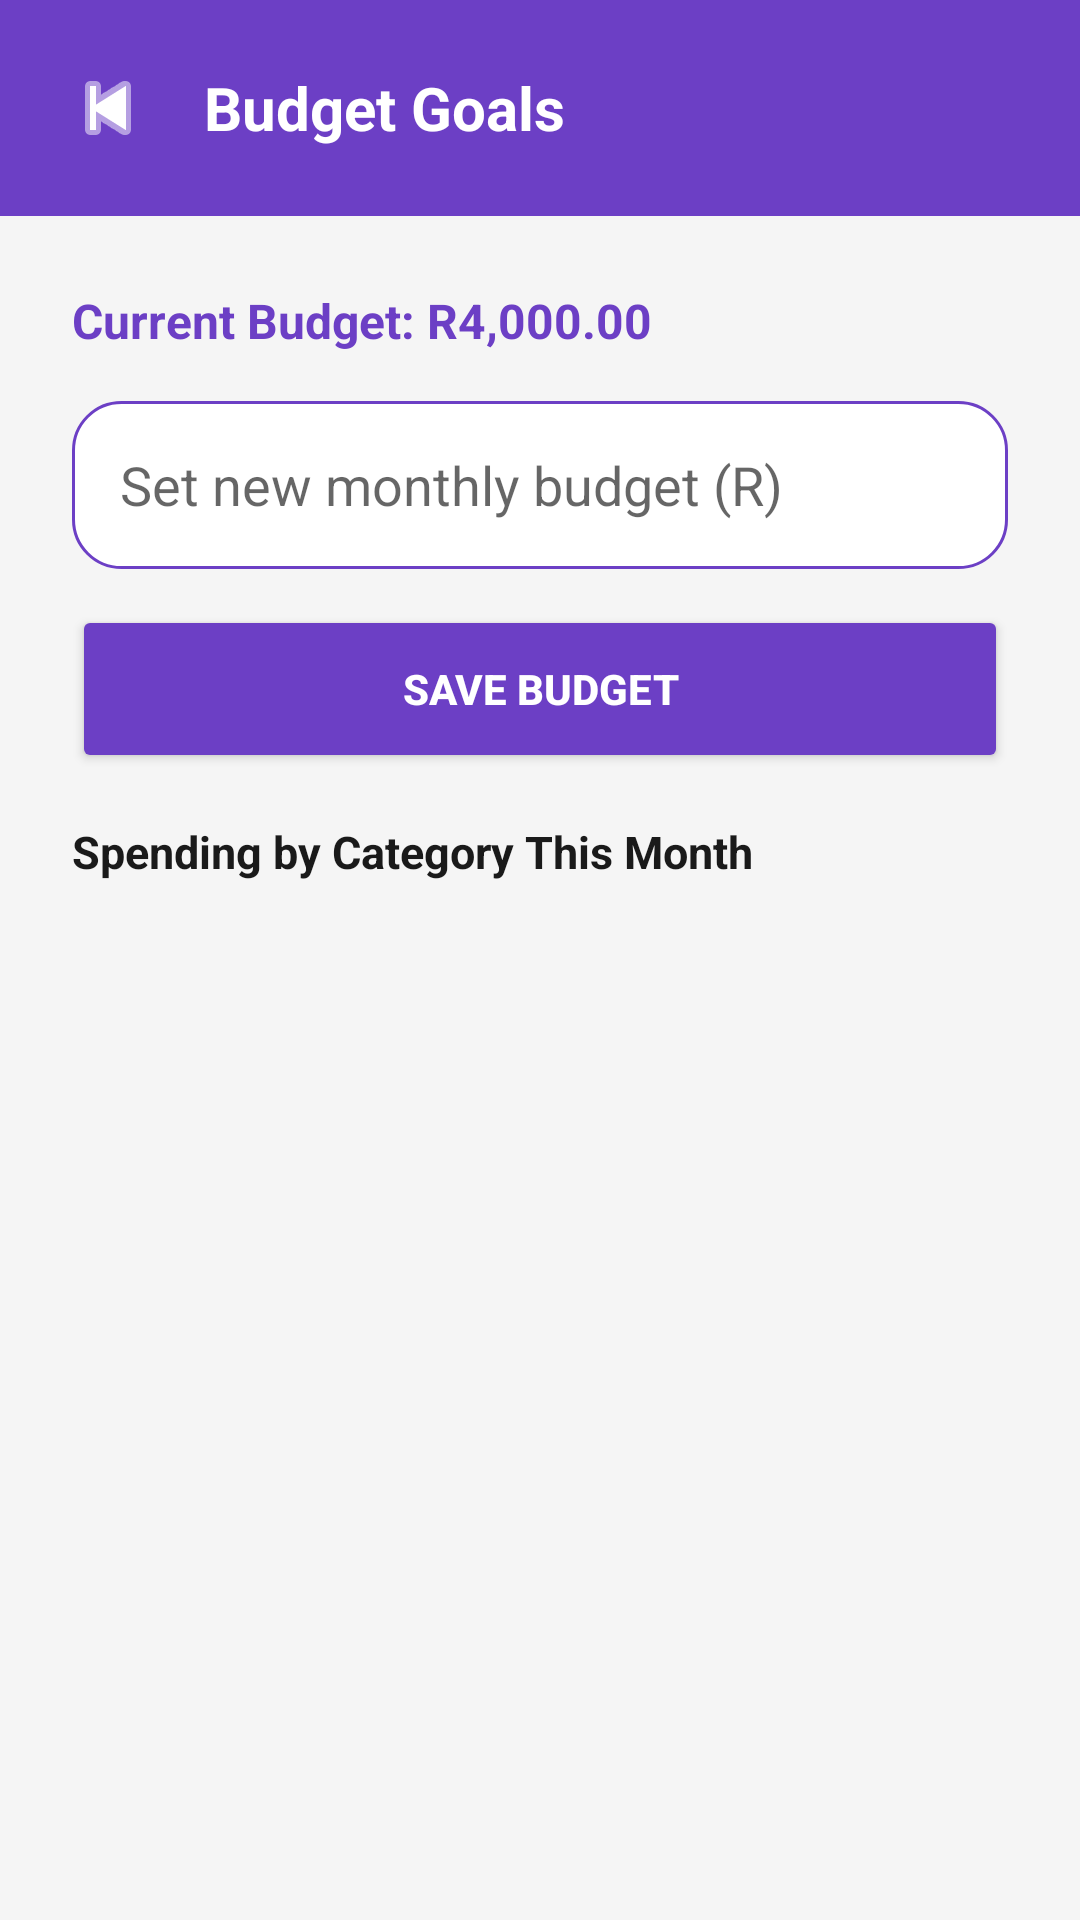

Icon click points for this 1080×1920 phone screenshot, format point (x, y):
previous: point (108, 108)
